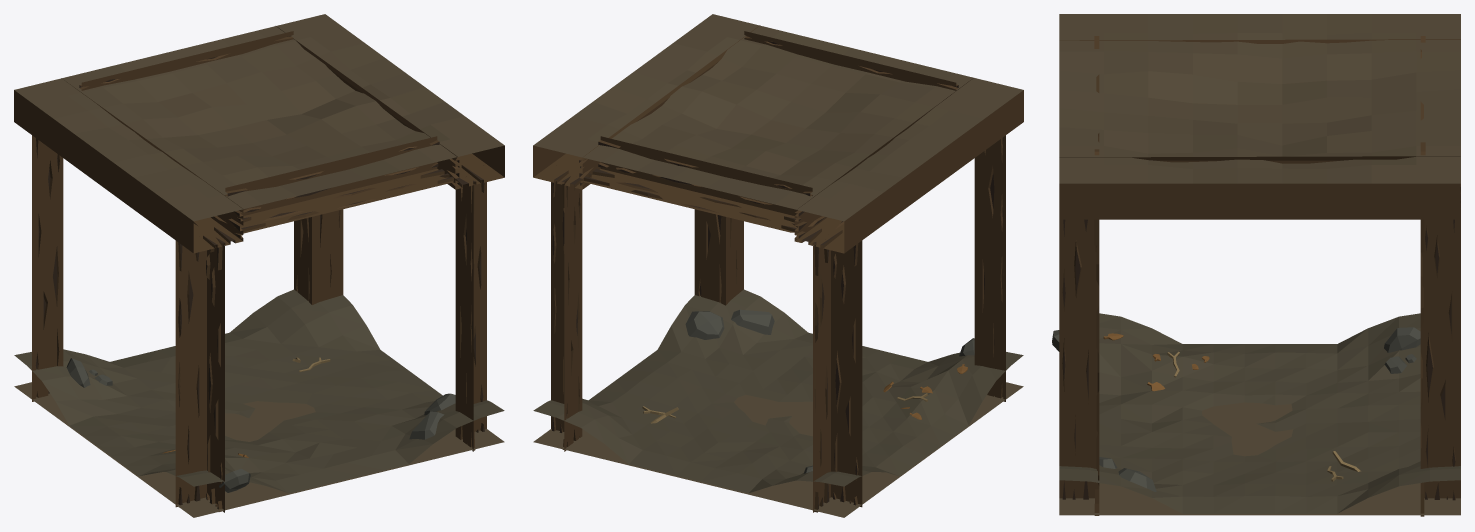
Rendered from Basement_Var4.glb.
3 views of the same model, side by side, from view 1: azimuth 30°, elevation 25°; view 2: azimuth 150°, elevation 25°; view 3: azimuth 270°, elevation 25° (orthographic). The views are drawn at different scales.
Visible parts, largest first — view 1: Basement_Var4.001; view 2: Basement_Var4.001; view 3: Basement_Var4.001.
Part boxes in pixels (x1=…): Basement_Var4.001: x1=14, y1=14, x2=504, y2=517; Basement_Var4.001: x1=533, y1=14, x2=1023, y2=517; Basement_Var4.001: x1=1052, y1=14, x2=1460, y2=516.
Bounding box in the file's own units: 4 × 3.82 × 4.07.
Materials: 6 (6 with a texture image).
